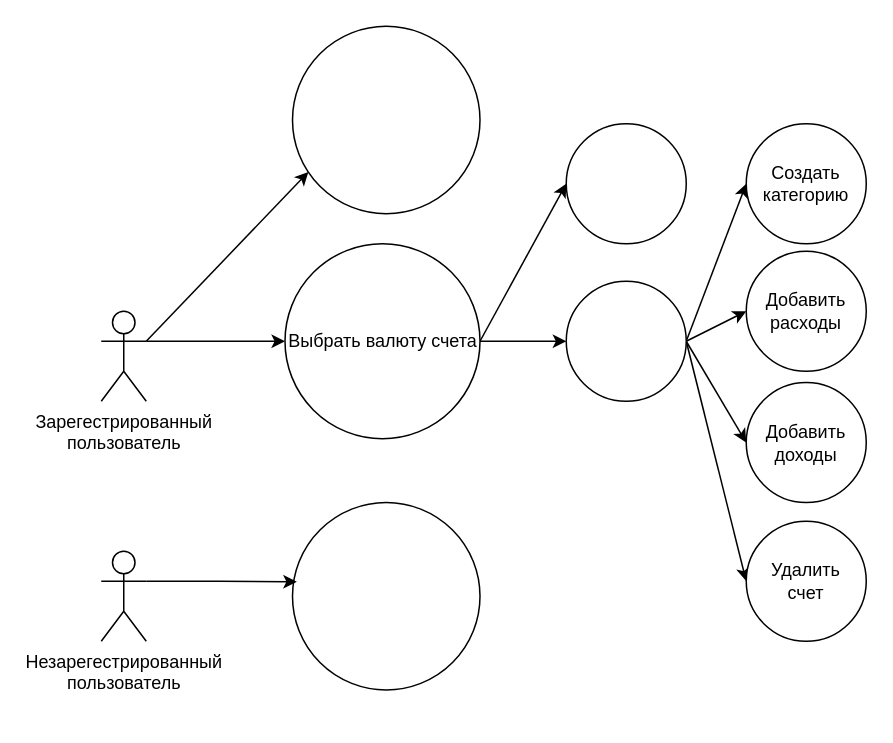
This 893x743 diagram has some shape labels left out. The shapes that lost their labels are listed below. From the top down, each one's centre as x and y in pixels, then its label:
the point at 385,119: Авторизоваться
the point at 625,183: Посмотреть транкзакции счета
the point at 625,340: Создать счет
the point at 385,595: Зарегестрироваться
